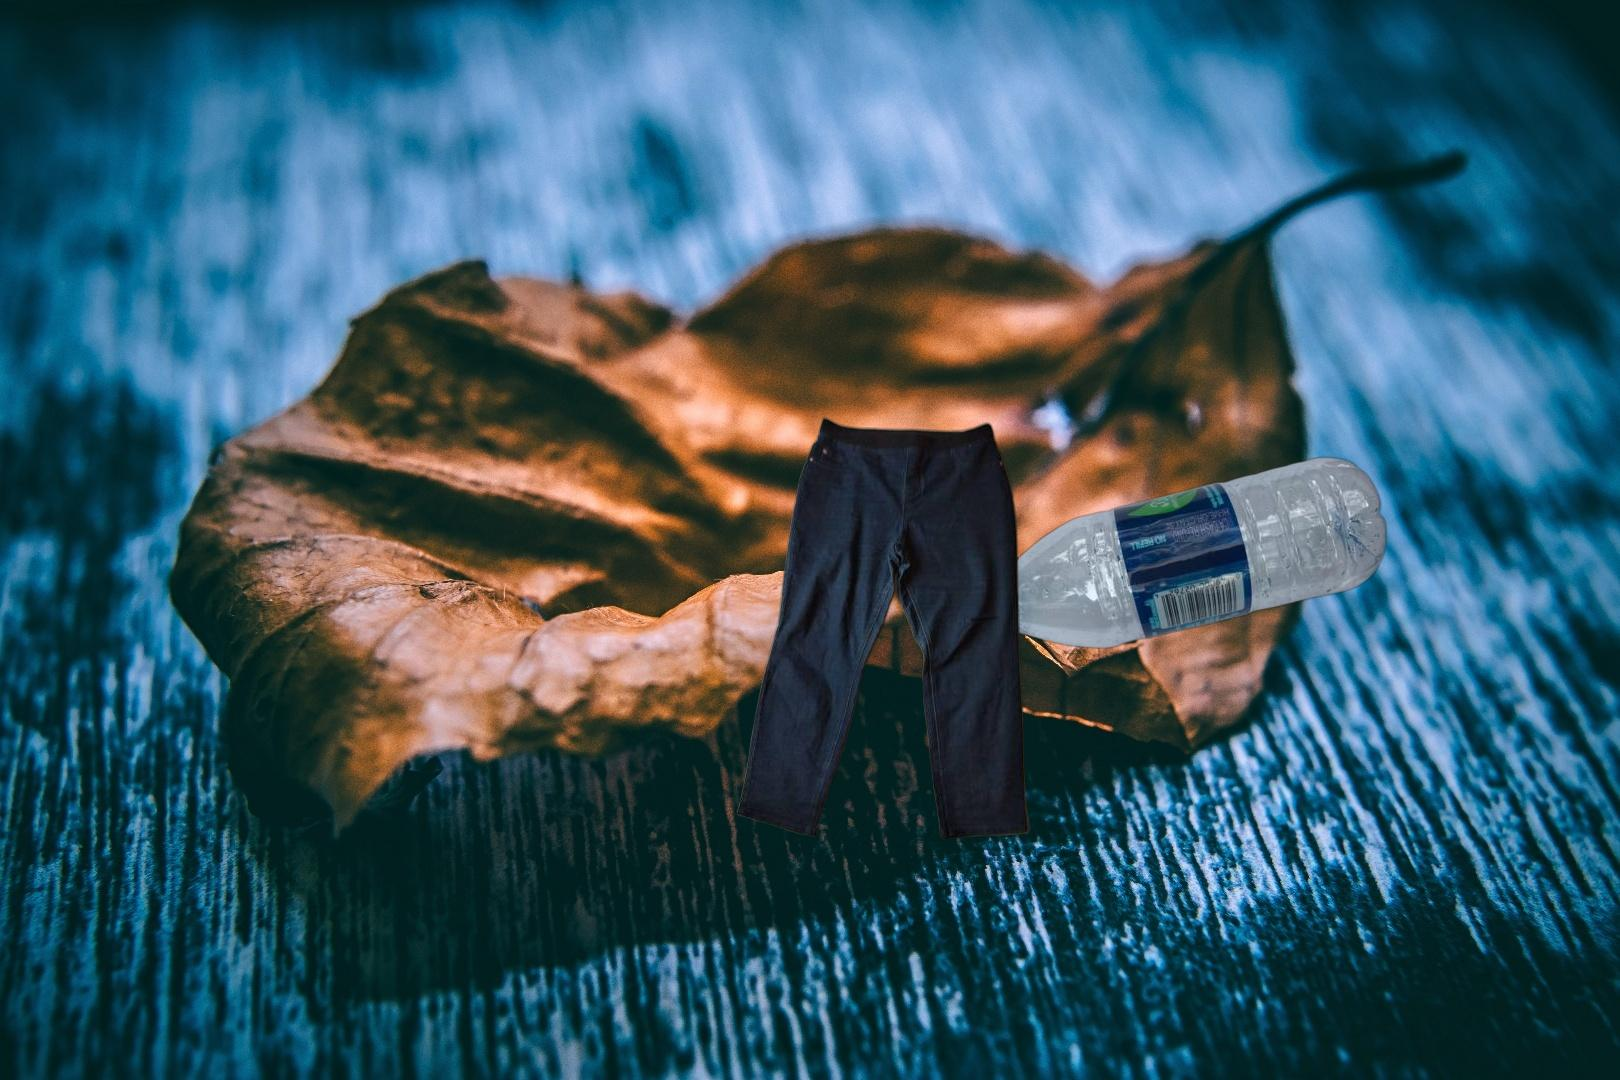clothes: (733, 413, 1033, 844)
plastic-bottles: (938, 454, 1391, 652)
